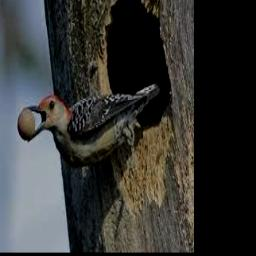Woodpecker: (23, 81, 161, 168)
